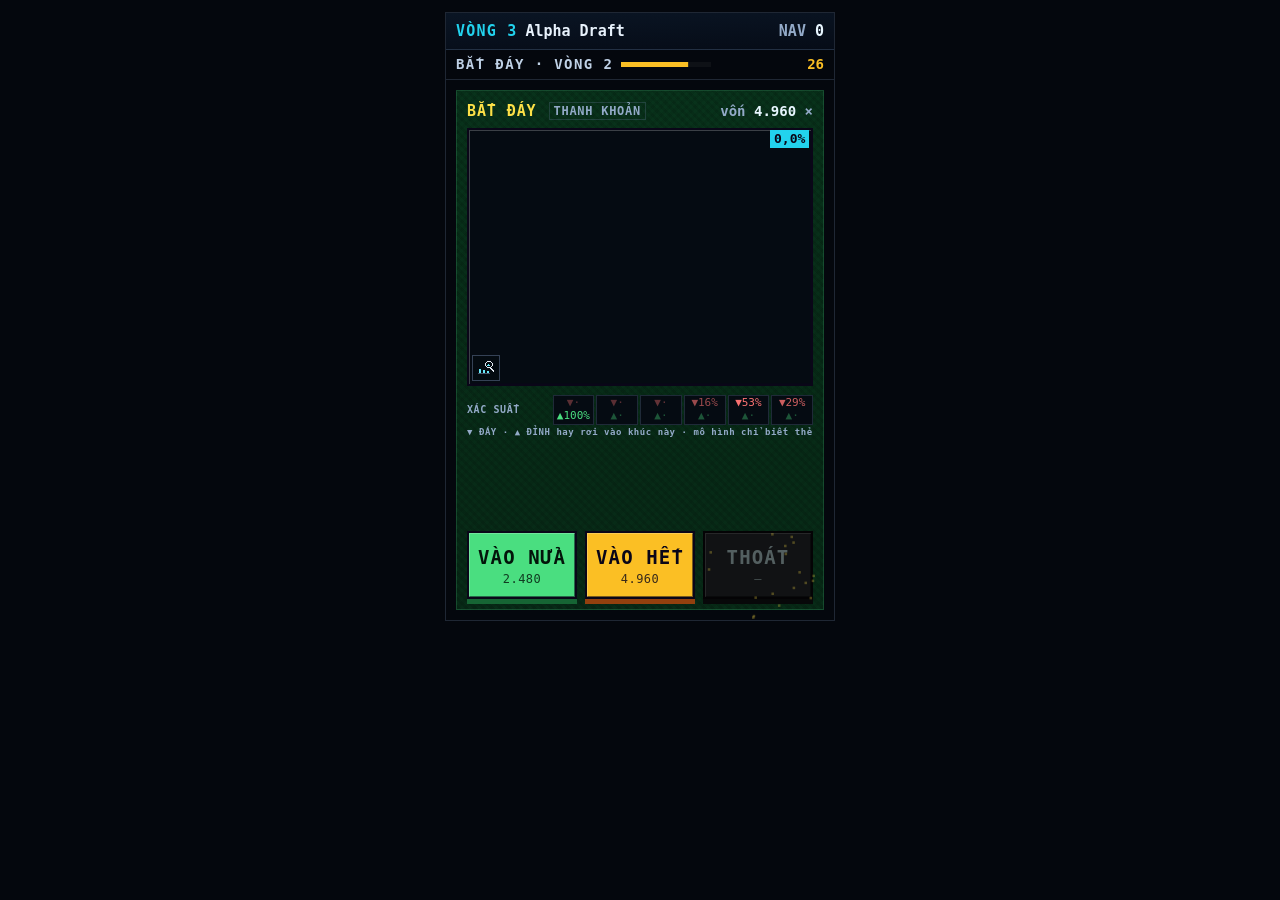
Test: §VIII — D499: Tổ Chức trong màn · nối lại dòng khi lệnh tự đẩy giá › ⭐ lệnh sinh cú tự đẩy (sổ `xung` tăng) ⇒ nối lại dòng nhịp; giá chạm GIÁ TRẦN ⇒ búa pháp lý + hàng nút xám, đồ thị giữ màu
The image size is (1280, 900).
Click the button "VÀO HẾT 4.960".
click(640, 565)  # box [585,531,695,599]
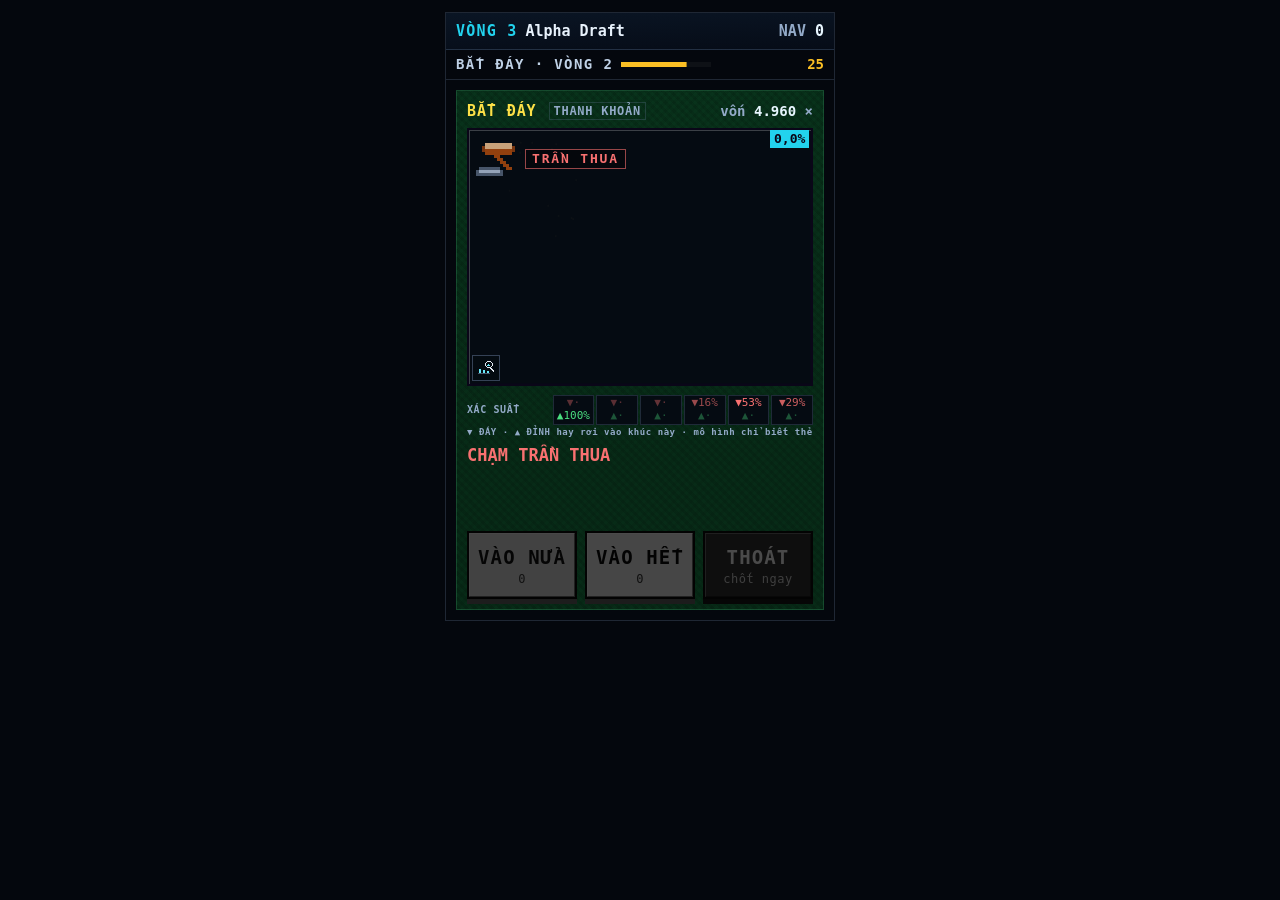
Now the element showing "TRẦN THUA" is shown, box [469,130,630,186]
Now the text "CHẠM TRẦN THUA" is shown, box [467,444,610,467]
